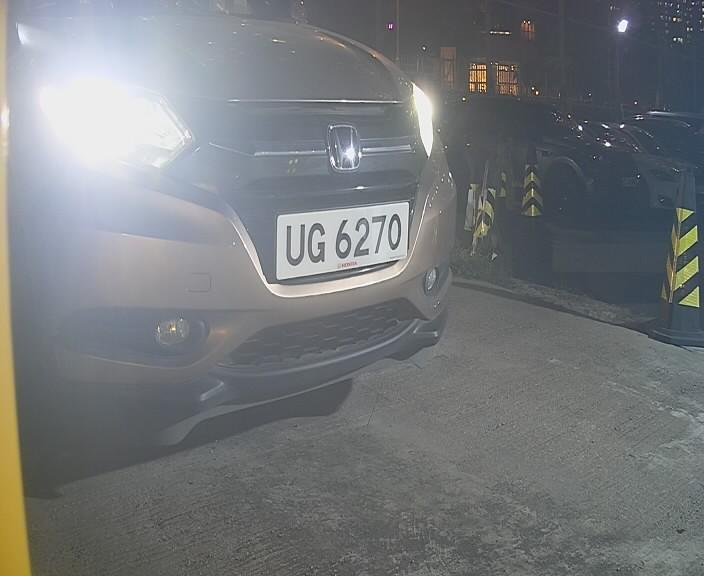Car: (13, 19, 557, 445)
License Plate: (258, 191, 412, 286)
